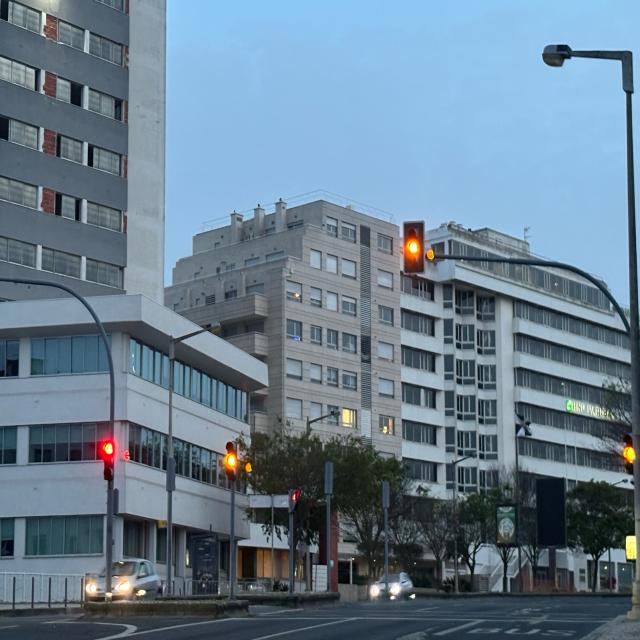car: (84, 558, 163, 603), (369, 572, 416, 602)
traffic light: (403, 221, 425, 274), (495, 504, 518, 546), (99, 439, 115, 481), (223, 441, 238, 481), (622, 434, 635, 475), (121, 449, 130, 462), (245, 461, 253, 474)
